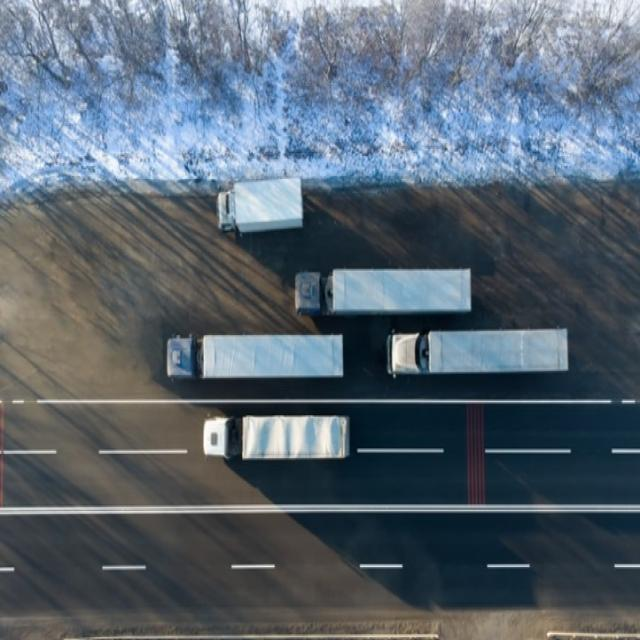truck: (294, 271, 472, 312), (167, 336, 342, 377), (390, 332, 568, 372), (204, 417, 351, 459), (218, 178, 304, 236)
